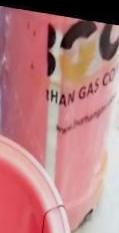cylinder: (1, 1, 119, 233)
